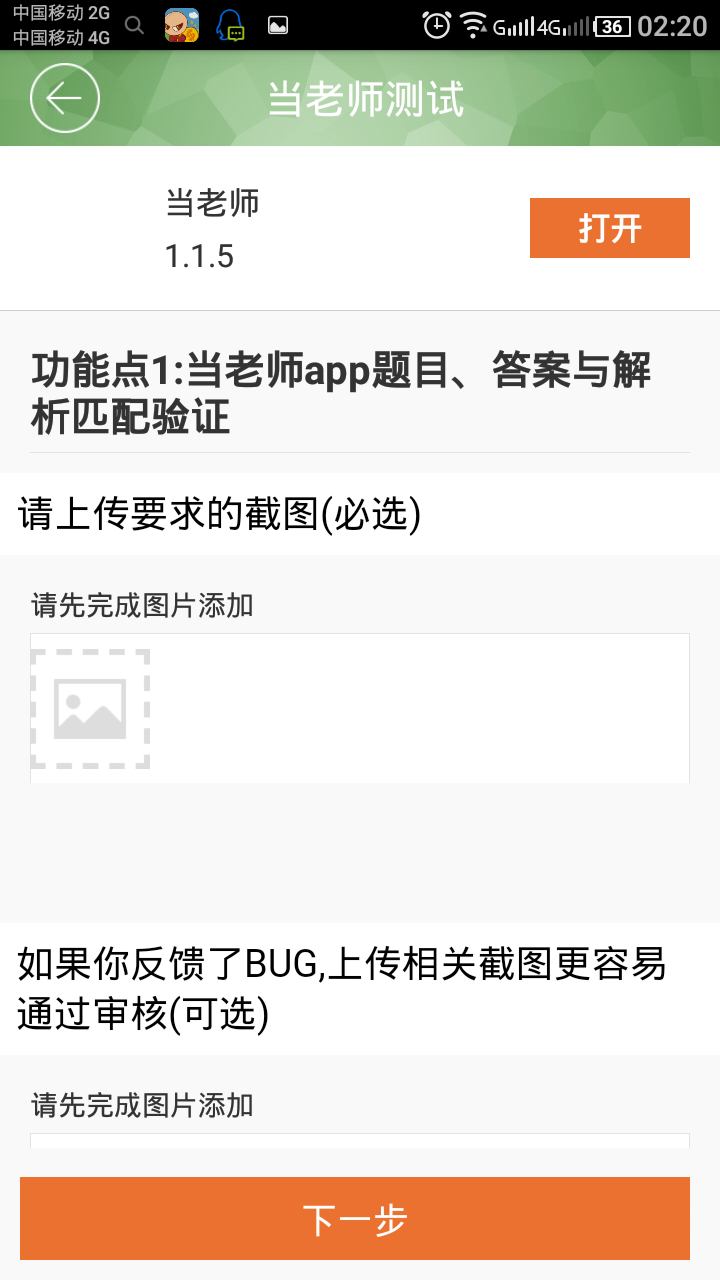imgview: (31, 635, 159, 775)
